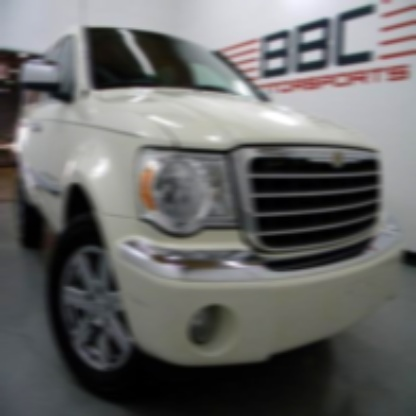Vehicle: (14, 23, 403, 396)
